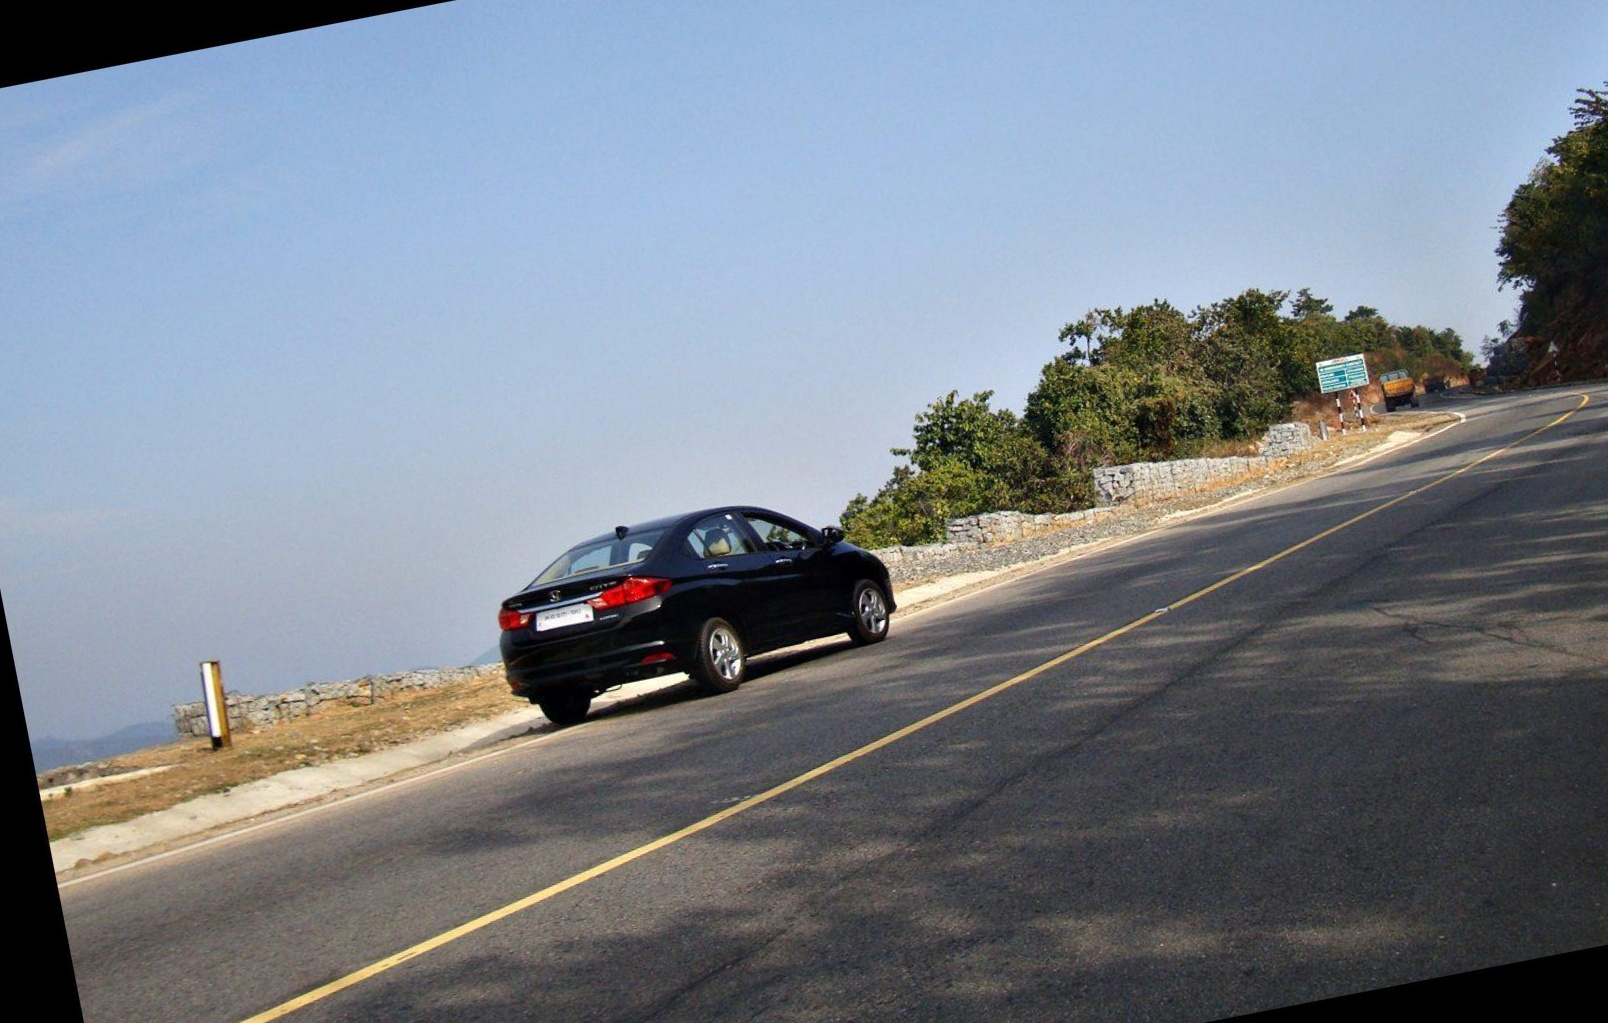car: (414, 428, 953, 793)
